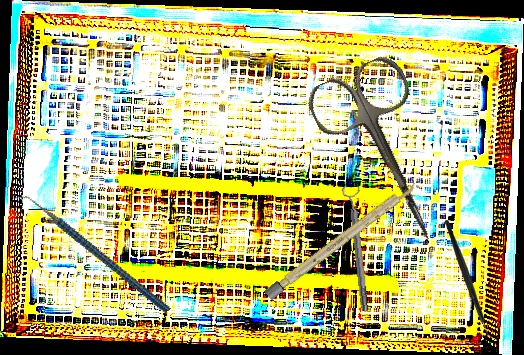Chopper: (10, 157, 172, 351), (444, 220, 498, 342)
Fixation Ring: (340, 183, 375, 313)
Iris Scissors: (302, 50, 472, 262)
Scalpel Handle: (264, 179, 419, 301)
